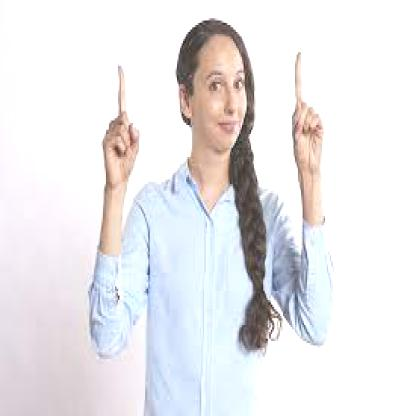Up: (102, 54, 148, 194), (289, 33, 324, 163)
